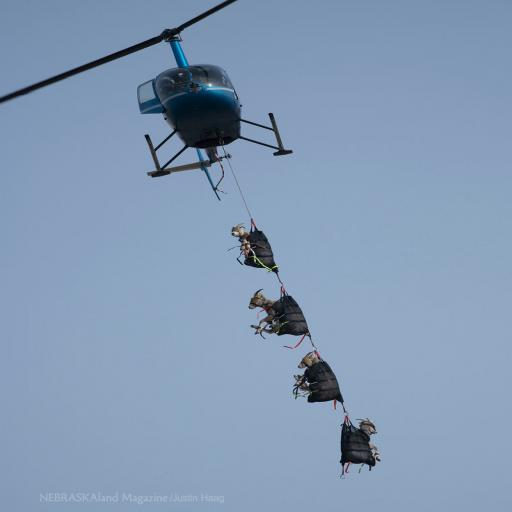helicopter: (51, 11, 314, 197)
